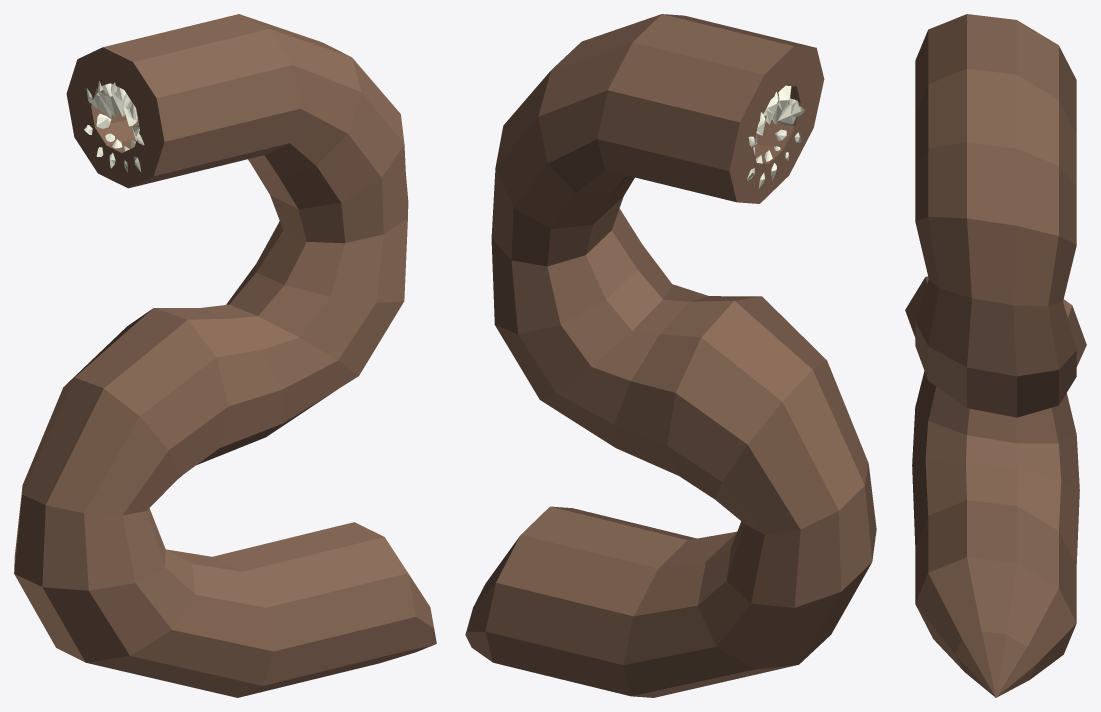
Rendered from Worm_Forest.FBX.
3 views of the same model, side by side, from view 1: azimuth 30°, elevation 25°; view 2: azimuth 150°, elevation 25°; view 3: azimuth 270°, elevation 25° (orthographic). The views are drawn at different scales.
Parts seen in each view (by area): view 1: Cylinder002; view 2: Cylinder002; view 3: Cylinder002.
Part boxes in pixels (x1,y1,x2,y2): Cylinder002: (14, 14, 436, 697); Cylinder002: (465, 14, 876, 697); Cylinder002: (905, 14, 1086, 697).
Size of the model in its own units: 17.14 by 27.1 by 8.04.
